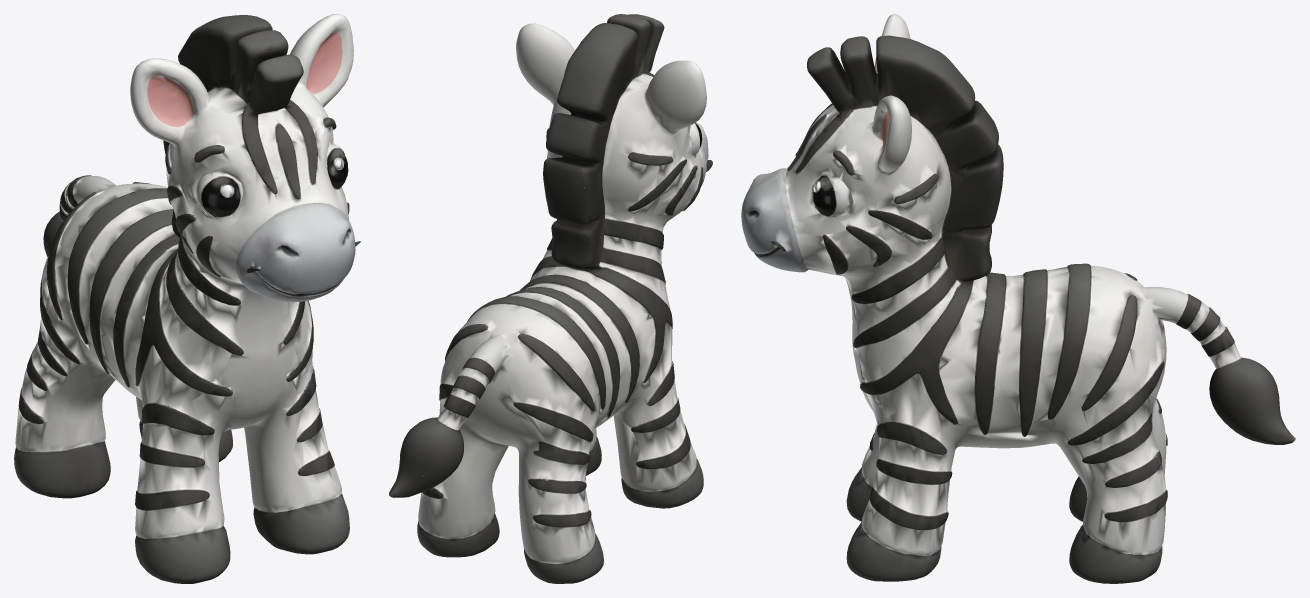
Rendered from zebra.glb.
The picture shows the model from 3 angles, left to right: view 1: azimuth 30°, elevation 25°; view 2: azimuth 150°, elevation 25°; view 3: azimuth 270°, elevation 25°; orthographic projection. The views are drawn at different scales.
Visible parts, largest first — view 1: personagem; view 2: personagem; view 3: personagem.
Part boxes in pixels (bbox=[...]): personagem: bbox=[14, 14, 360, 583]; personagem: bbox=[389, 14, 712, 583]; personagem: bbox=[741, 14, 1295, 583].
Bounding box in the file's own units: 0.4219 × 0.9746 × 0.9791.
Materials: 1 (1 with a texture image).
